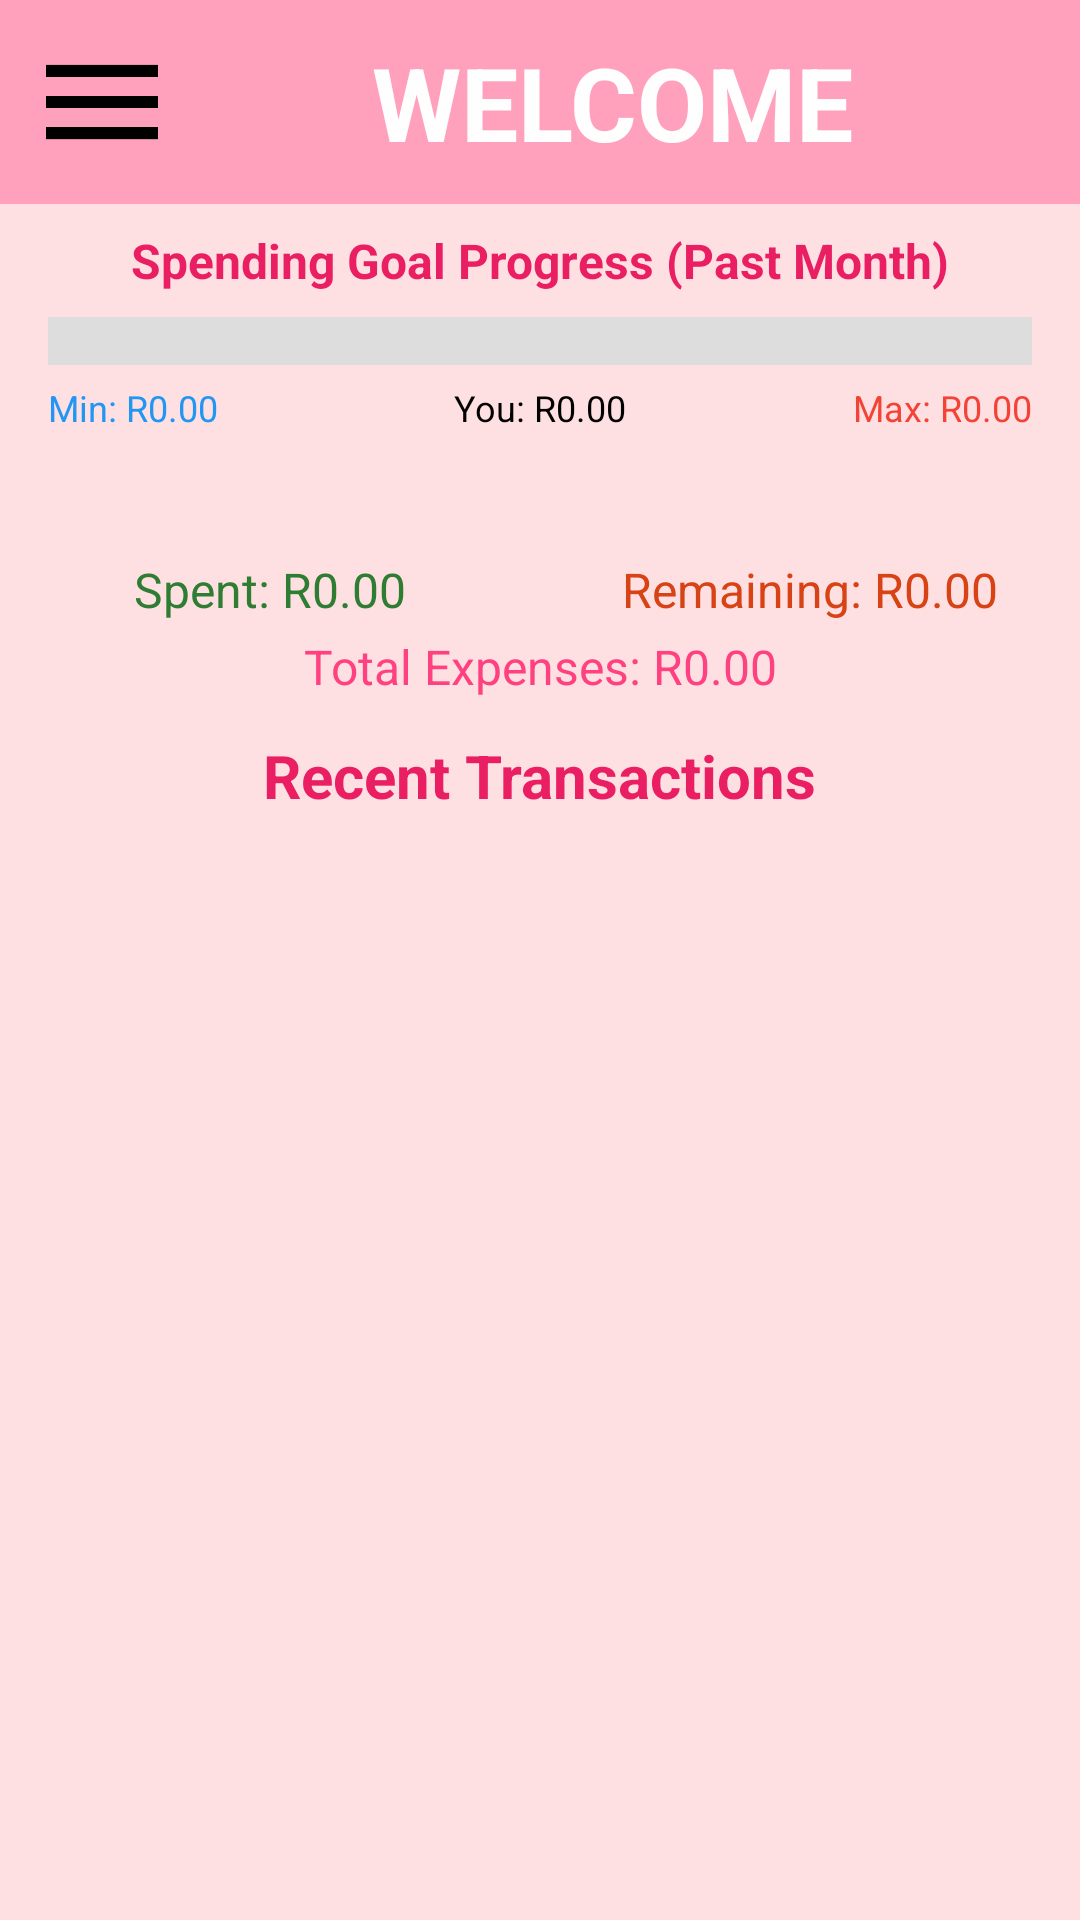

Point at icon controls on the screen. Image size 1080px x 1920px, points as point (x, y).
Menu: point (102, 102)
